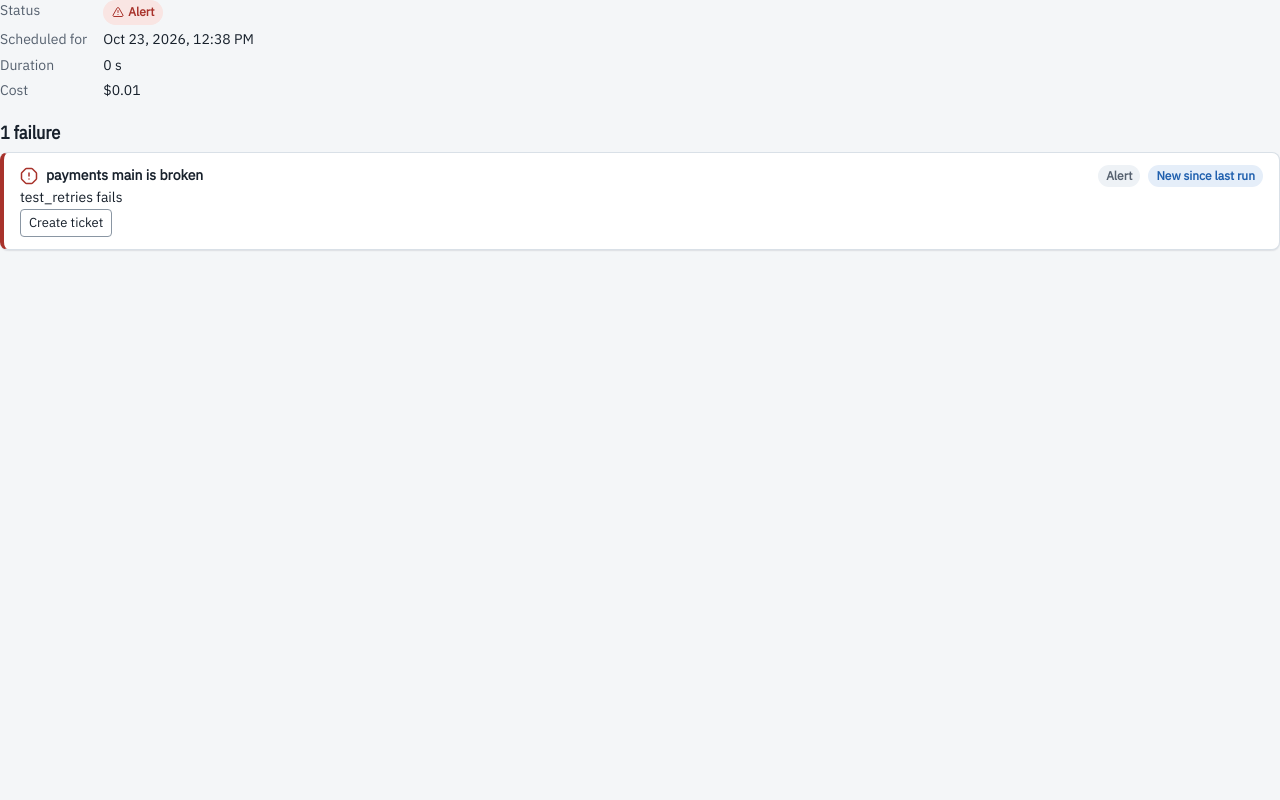
Scenario: CI failure → ticket (08 §F6) › only offers tickets on CI failure runs, and opens an existing one
Click the button "Create ticket": (66,223) left=20, top=209, right=112, bottom=237
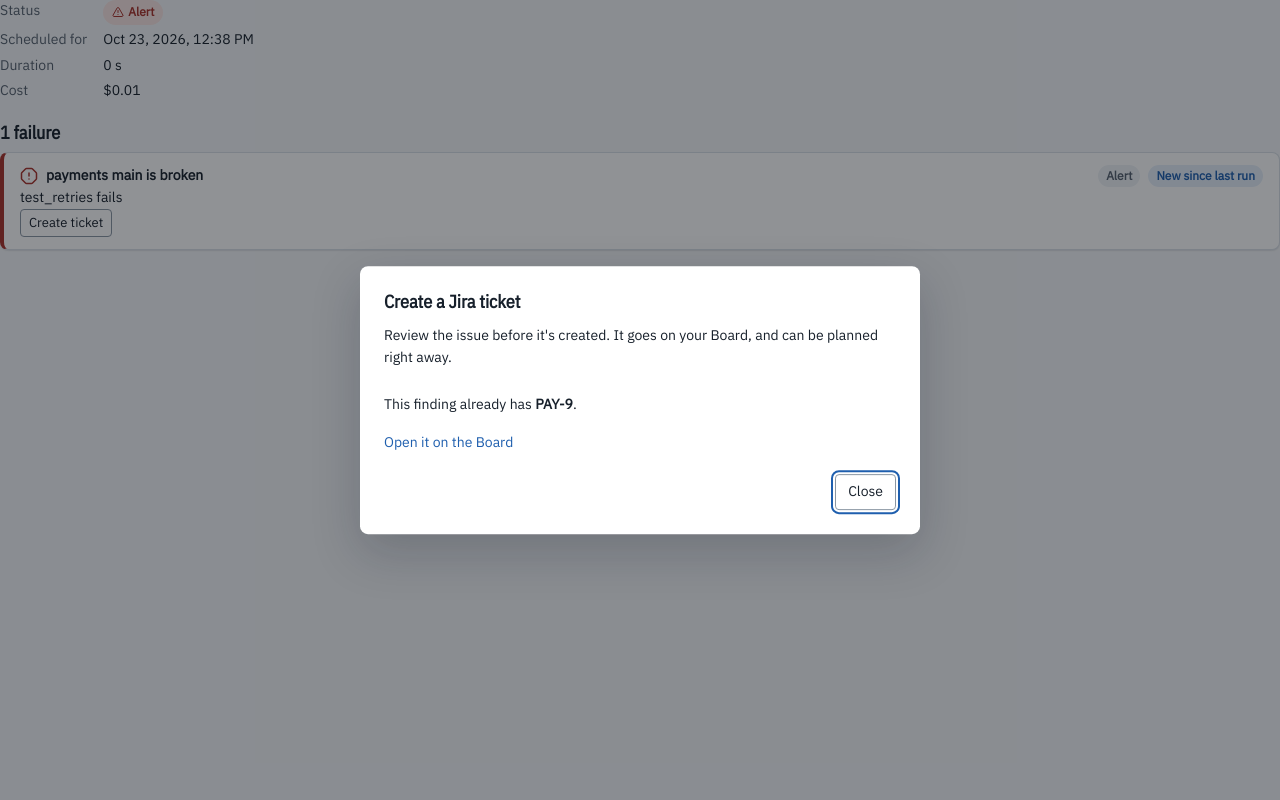
Check: the text "PAY-9" is shown, box left=535, top=396, right=573, bottom=414
